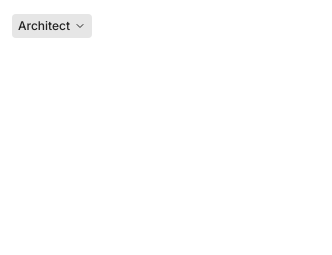
ArchetypeSelector › closes on Escape
Click the button with test id "archetype-selector" at (52, 26), box [12,14,92,38]
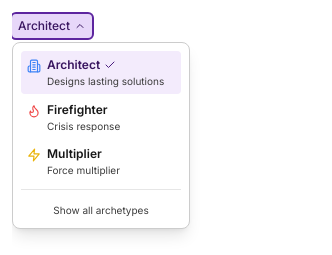
Expected: the list is shown, [12,42,190,228]
Press Escape
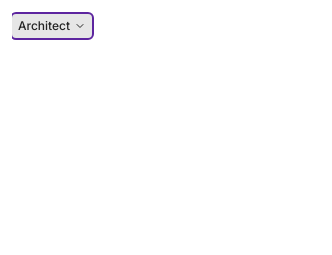
Expected: the list is gone
